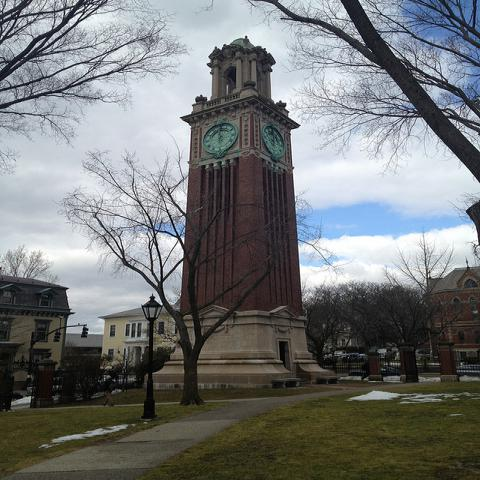car: (323, 353, 369, 366), (381, 366, 401, 377), (12, 392, 23, 400)
